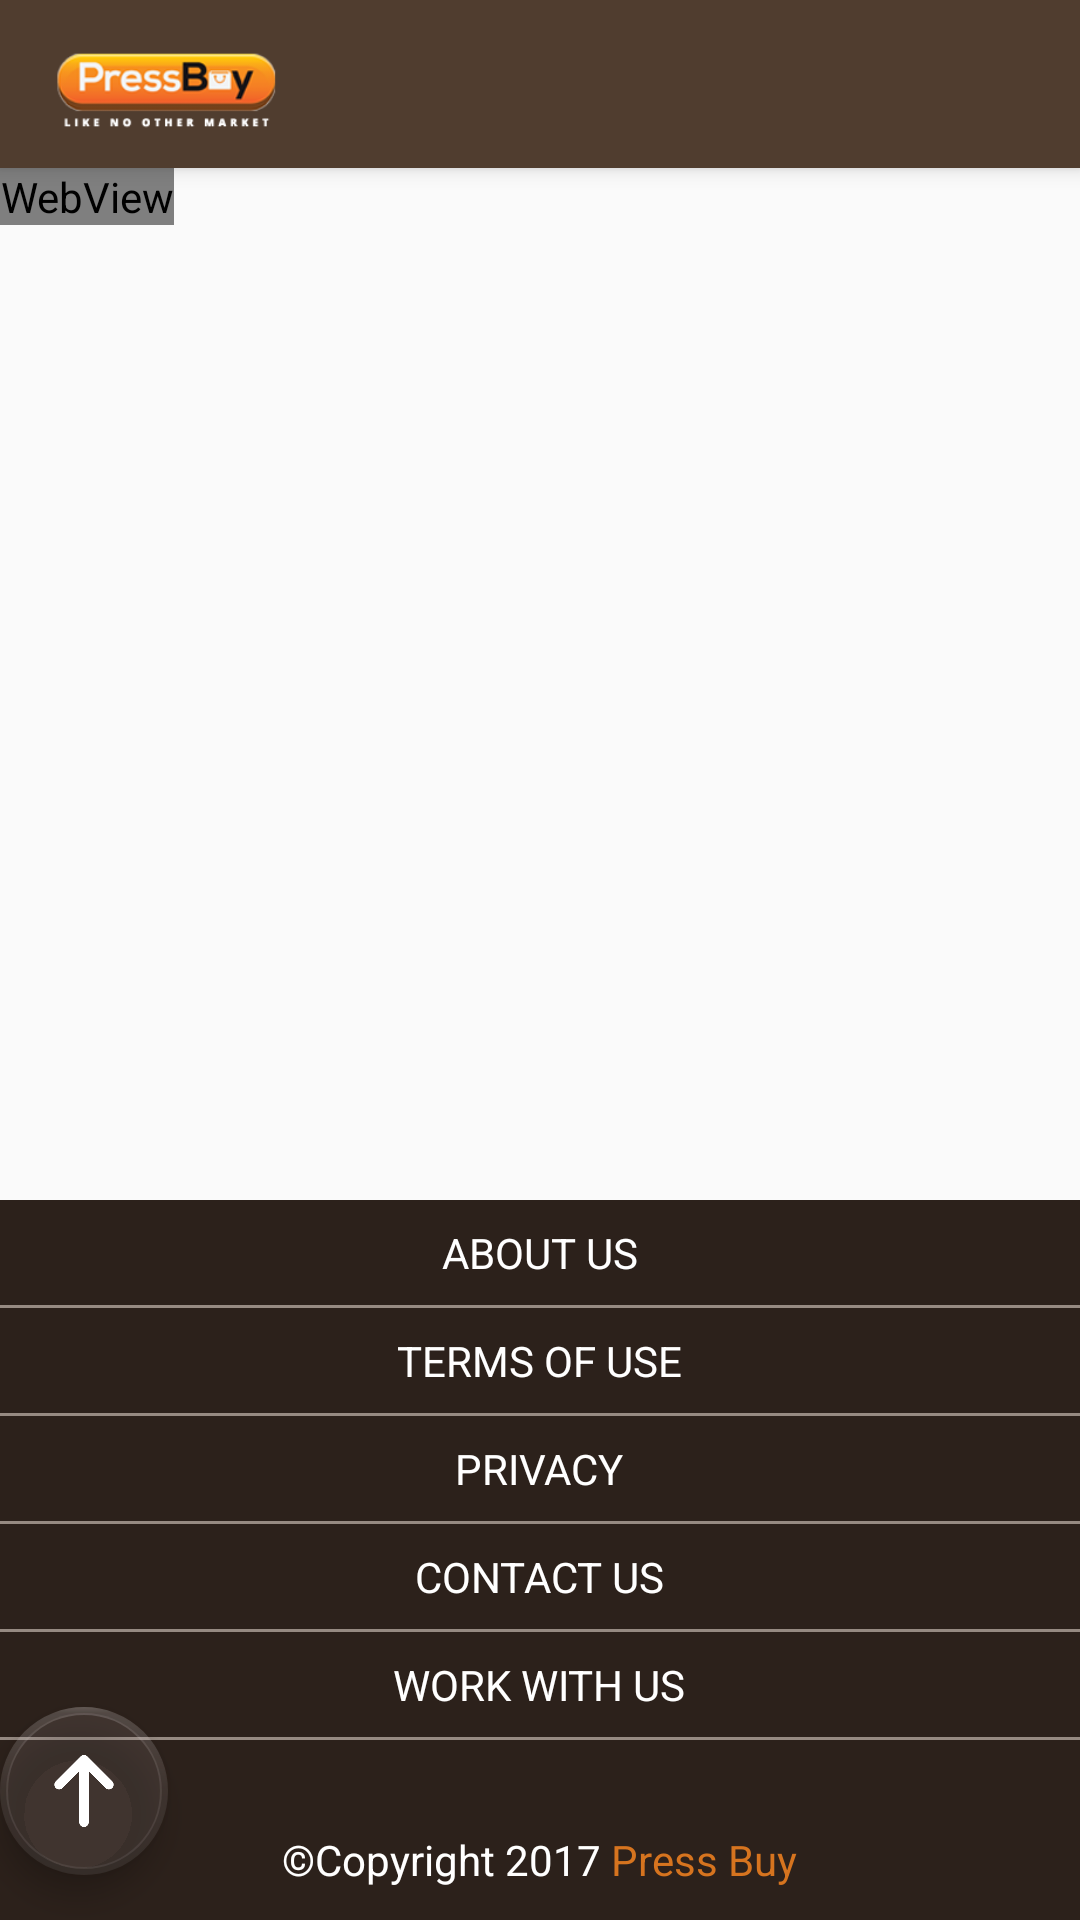

Named icons in this screenshot (1080*1920) and their bounding boxes, (x1, y1, x2, y2):
uparrow: (0, 1707, 168, 1875)
